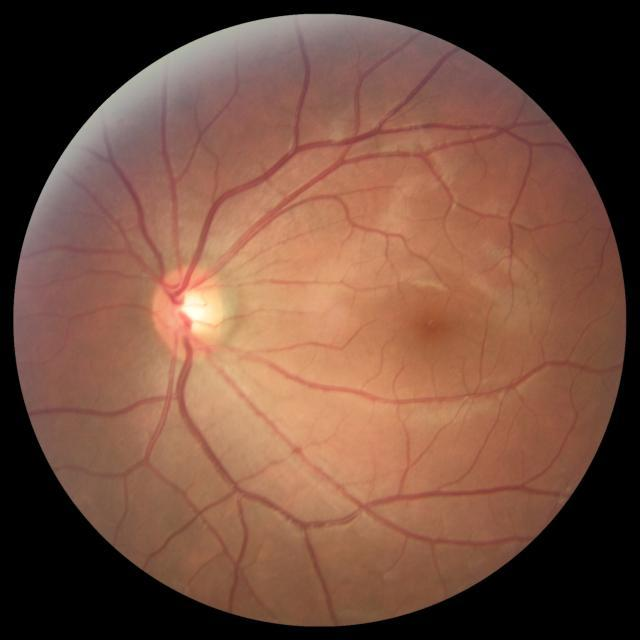OC: (173, 287, 209, 330)
OD: (153, 262, 227, 360)
